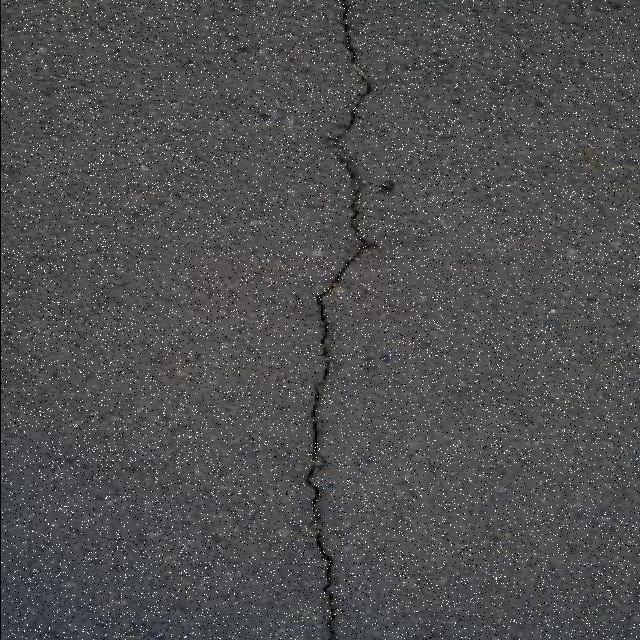Crack: (303, 0, 378, 638)
